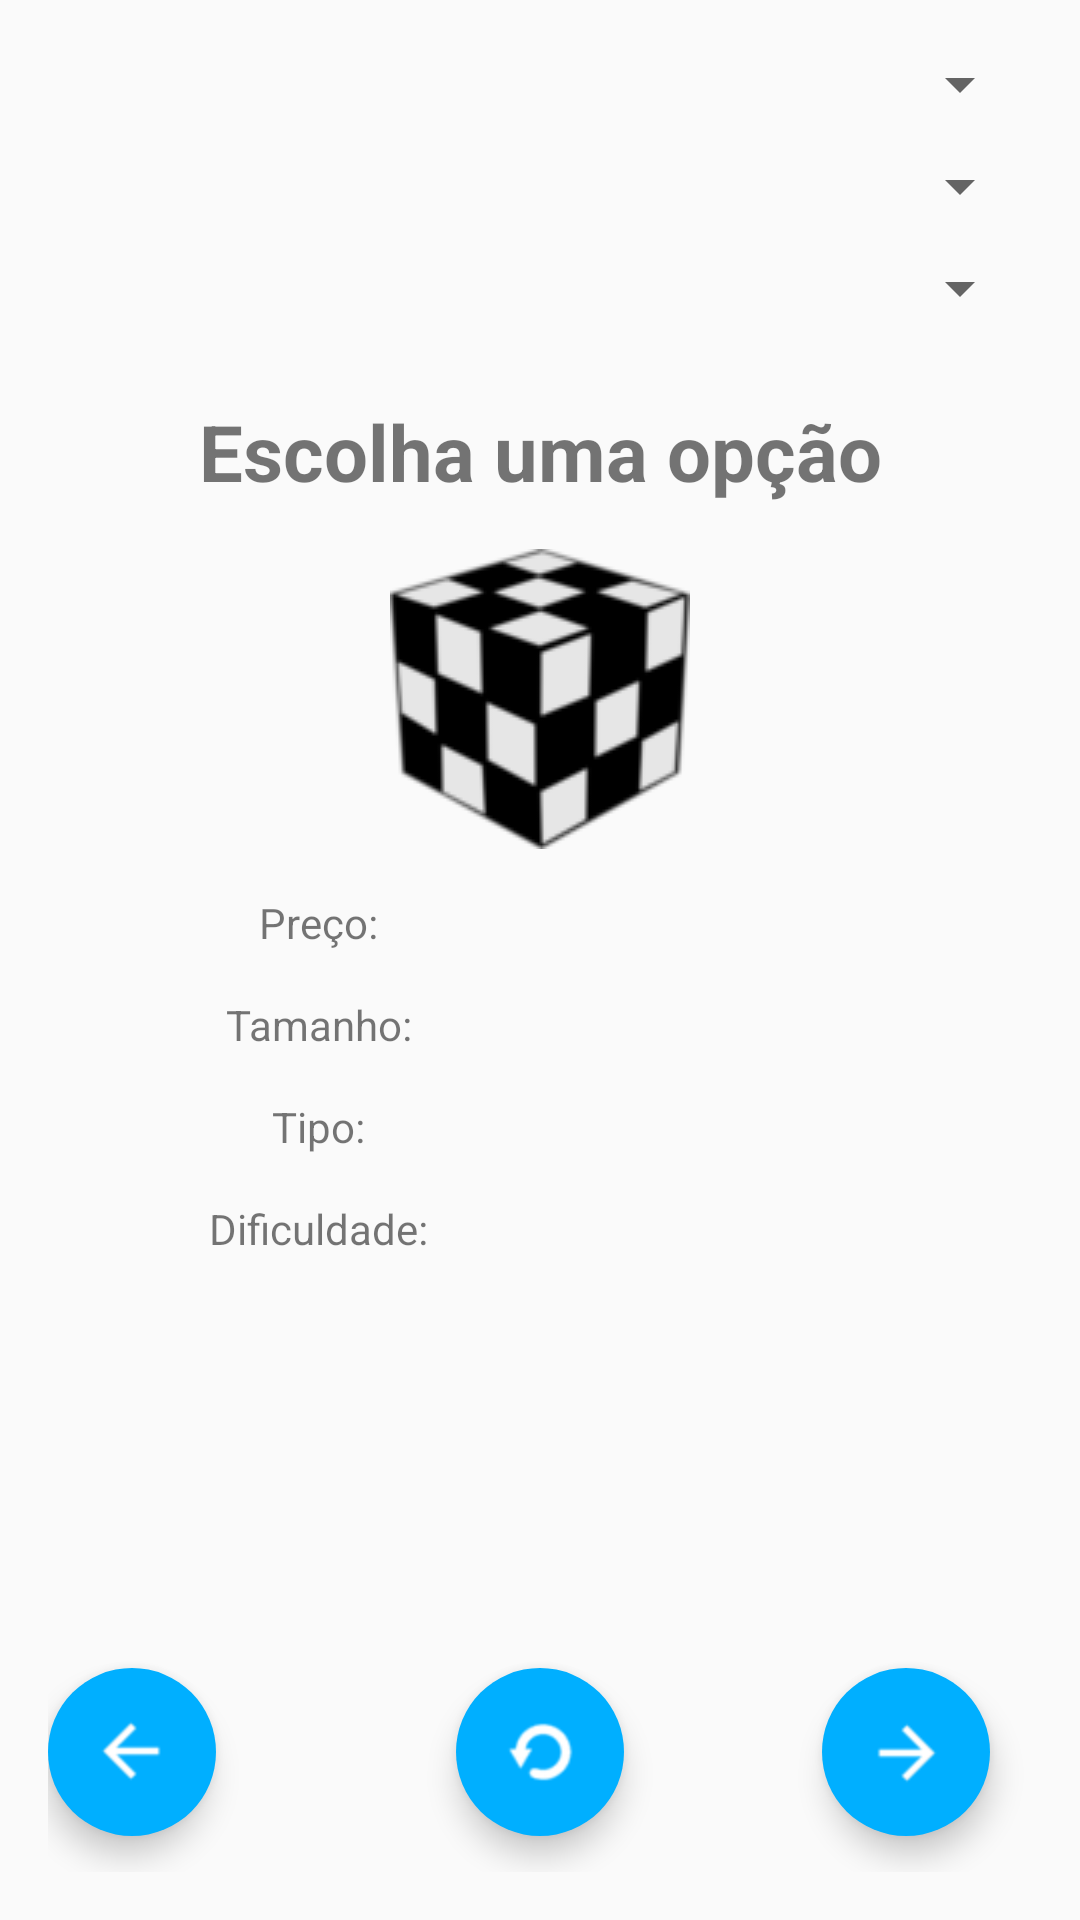

Icon click points for this 1080 × 1920 phone screenshot, format (x,y):
cube init: (540,699)
fab next: (906,1752)
fab previous: (132,1752)
